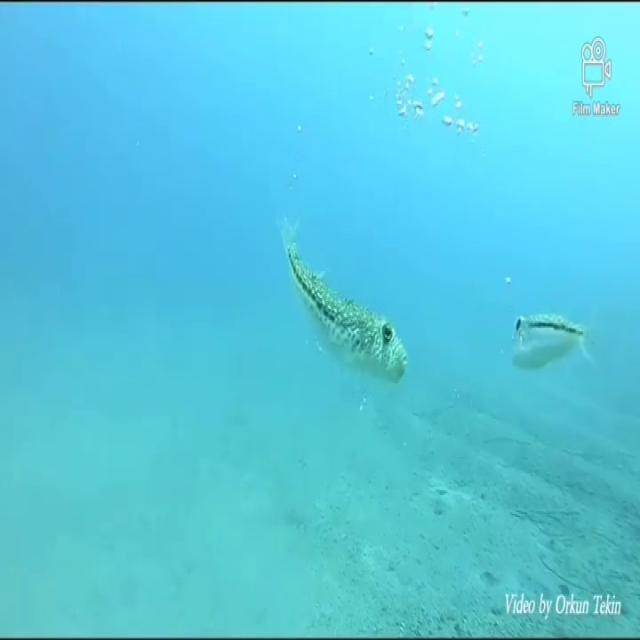Balon Baligi: (283, 214, 407, 382), (512, 312, 598, 371)
